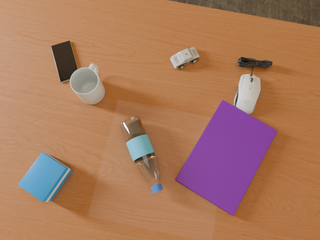book: (175, 100, 277, 215)
bottle: (120, 116, 163, 193)
box: (18, 152, 73, 202)
cup: (70, 64, 105, 104)
mouse: (234, 74, 260, 114)
phone: (51, 41, 78, 83)
toy_car: (170, 47, 200, 69)
